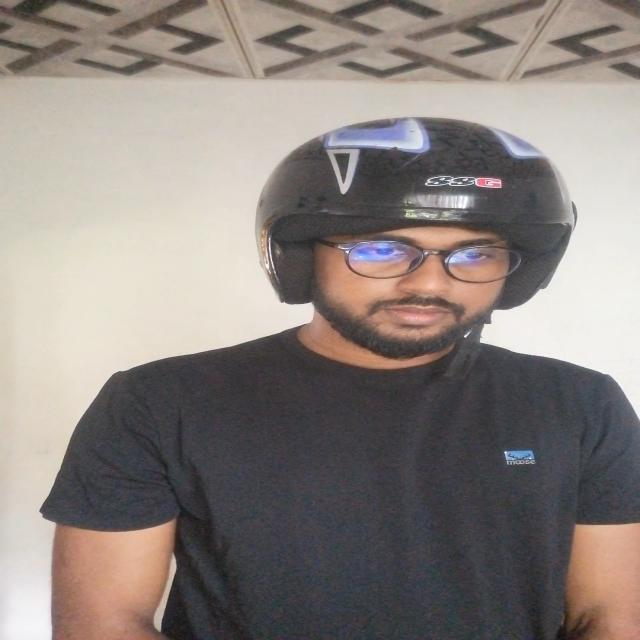Helmet_Wearer: (217, 92, 584, 398)
Person: (38, 116, 640, 640)
